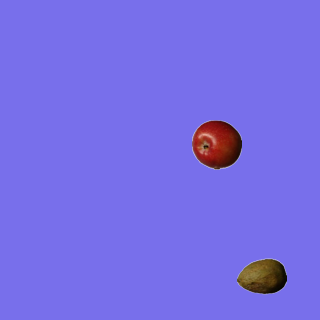Apple Braeburn: (191, 119, 241, 169)
Papaya: (236, 251, 286, 301)
